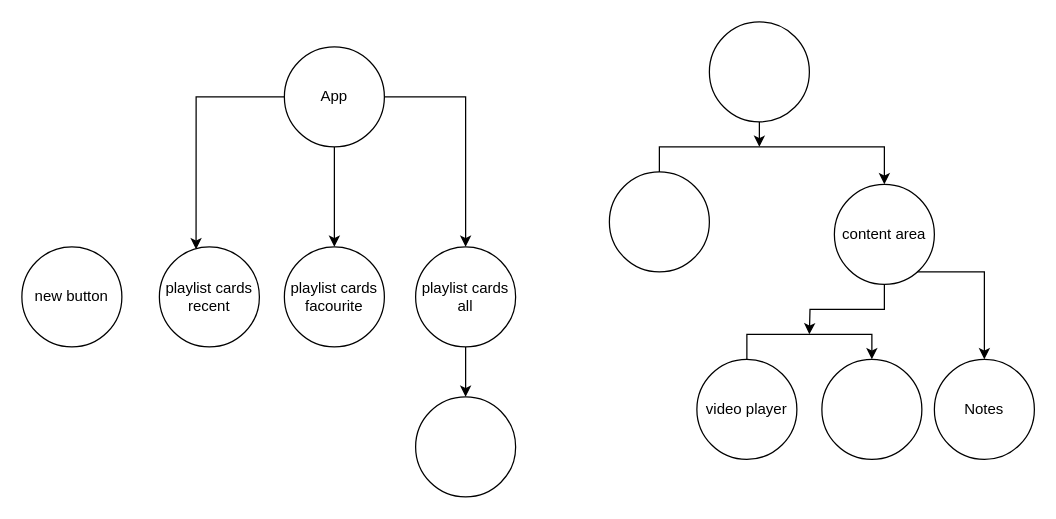
This 1056x519 diagram has some shape labels left out. Here are the shapes that lost their labels. From the top down, the centre of each, then its label:
At (758,71): "course player".
At (658,221): "sidebar".
At (871,408): "Description".
At (465,446): "card".
